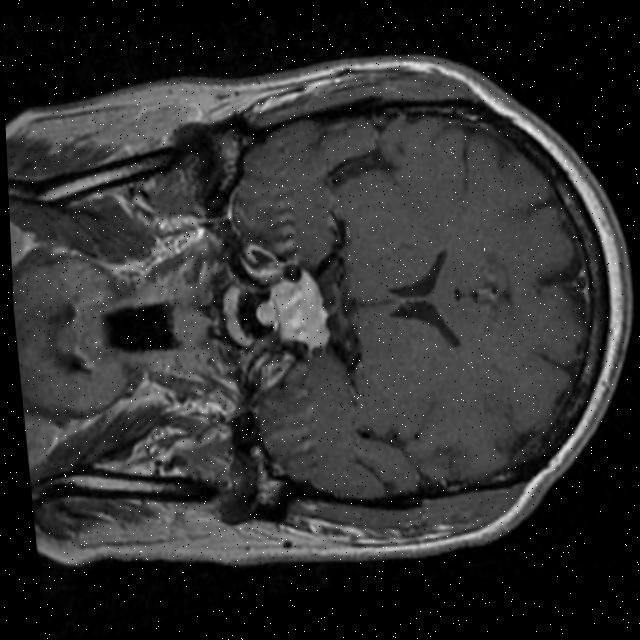Pituitary: (252, 266, 332, 358)
